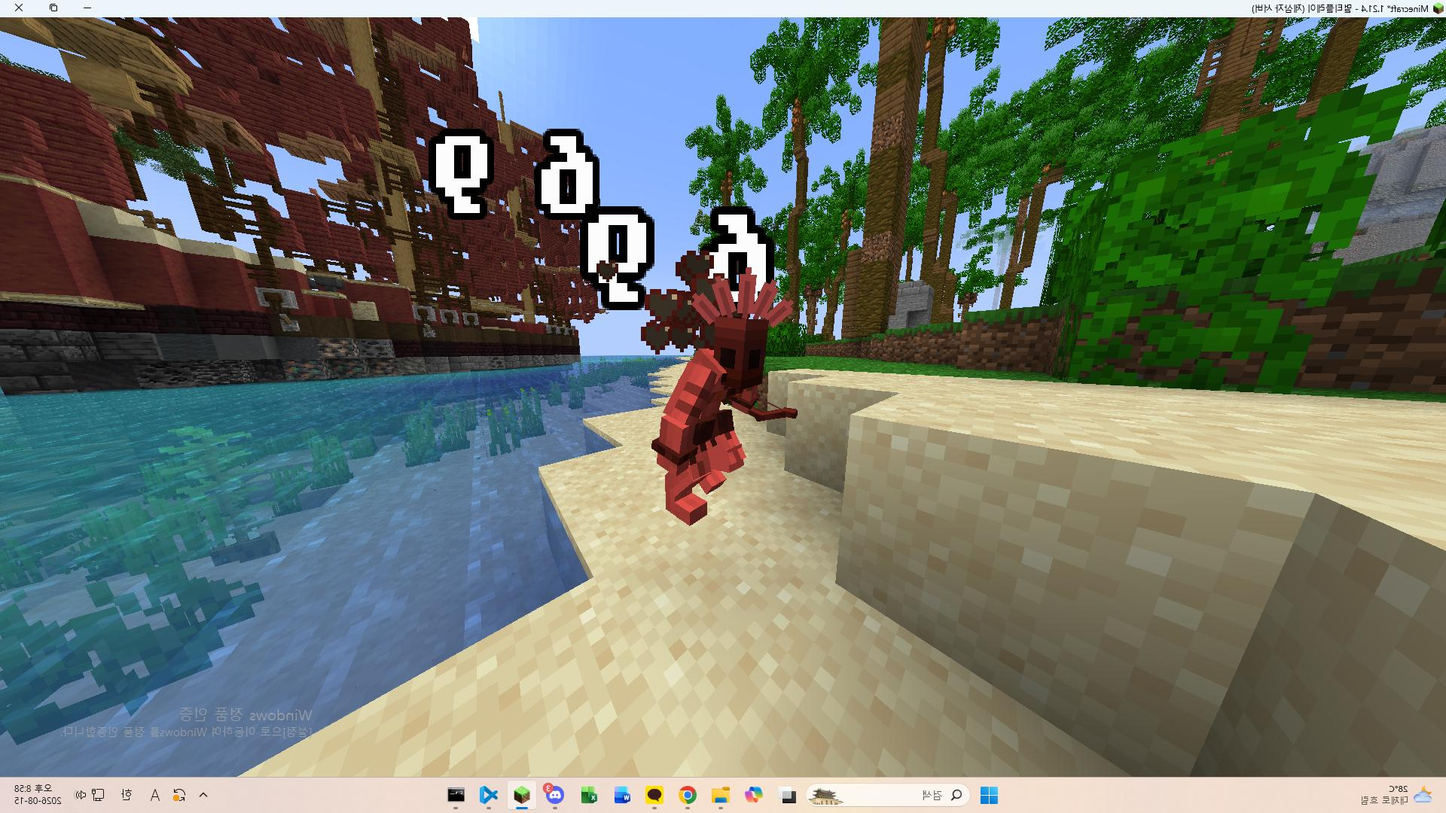bow_indian: (601, 267, 807, 522)
